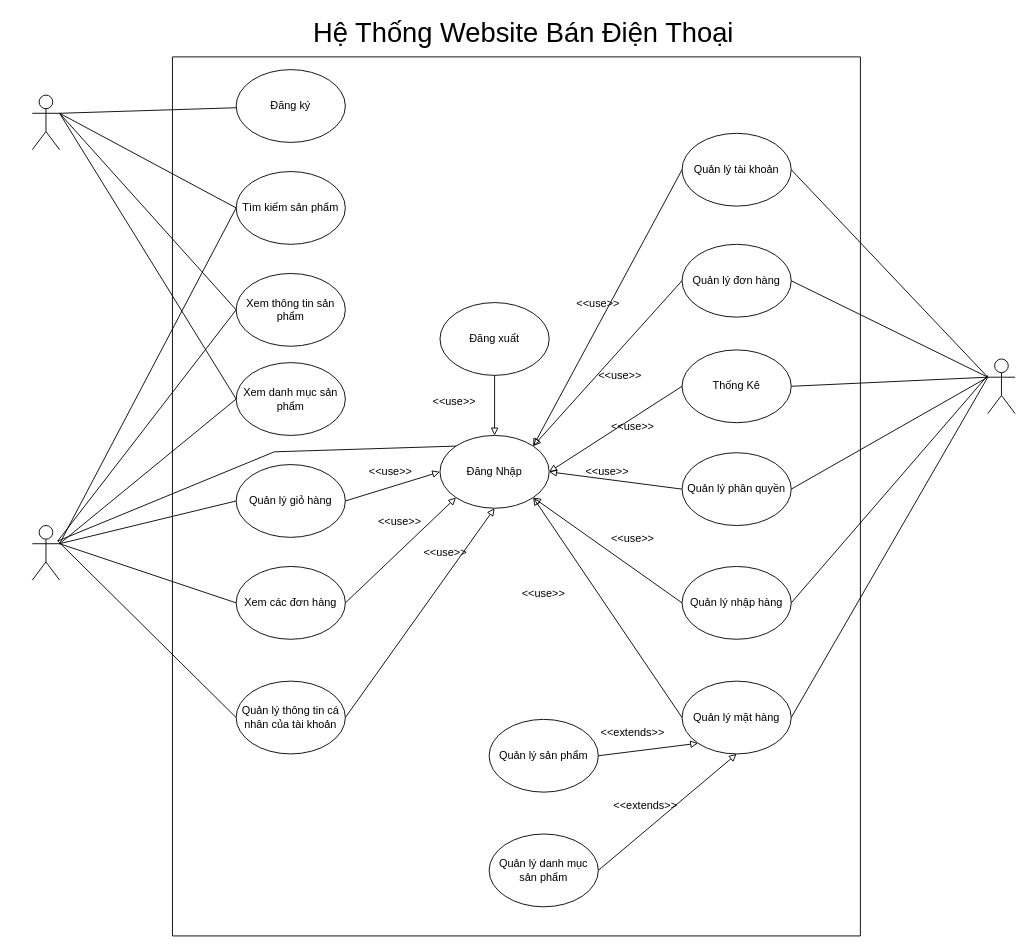
The diagram is 1032 pixels wide and 952 high, and some of its shapes have lost their labels. The centre of each missing label's shape, as x and y in pixels:
"Admin" belongs at [1001,386].
"Khách Hàng" belongs at [45,552].
"Người Dùng" belongs at [45,122].
